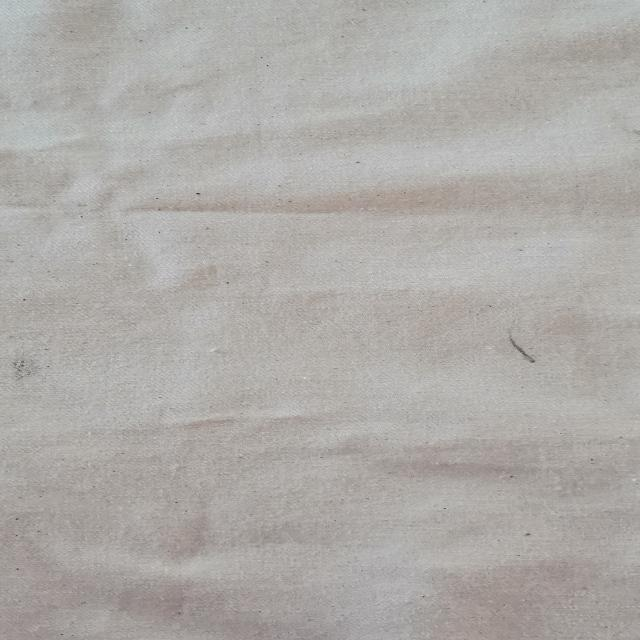taaaches: (484, 313, 562, 361), (0, 347, 68, 387)
